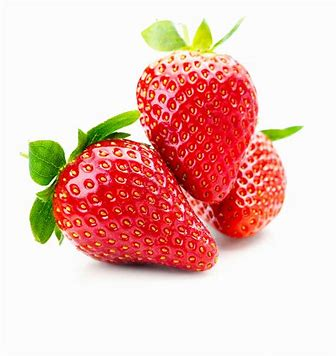strawberry: (28, 110, 219, 272), (135, 20, 260, 202)
